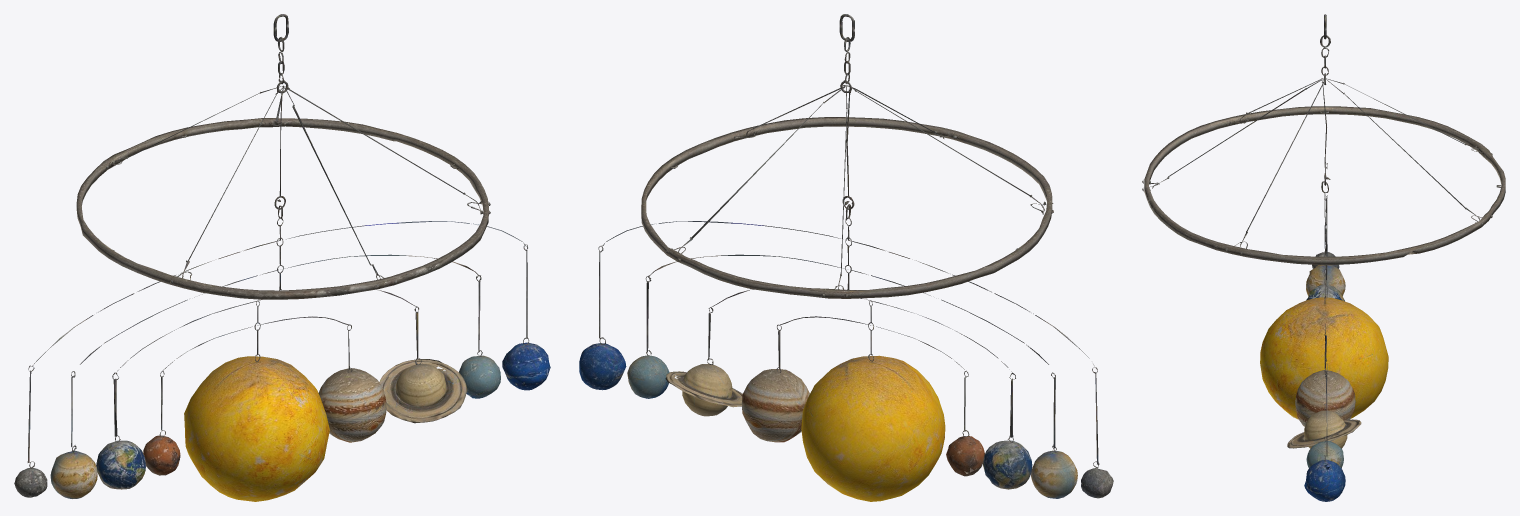
Rendered from skyways-d-sc-mobile.glb.
3 renders of one model, left to right at view 1: azimuth 30°, elevation 25°; view 2: azimuth 150°, elevation 25°; view 3: azimuth 270°, elevation 25°, orthographic. The views are drawn at different scales.
Parts seen in each view (by area): view 1: skyways-d-sc-mobile; view 2: skyways-d-sc-mobile; view 3: skyways-d-sc-mobile.
Boxes of the visible parts, box(x1,y1,x2,y2) form: skyways-d-sc-mobile: box(14, 14, 550, 501); skyways-d-sc-mobile: box(579, 14, 1113, 501); skyways-d-sc-mobile: box(1142, 14, 1505, 501).
Size of the model in its own units: 3 by 2.58 by 2.03.
1 material, 1 textured.
